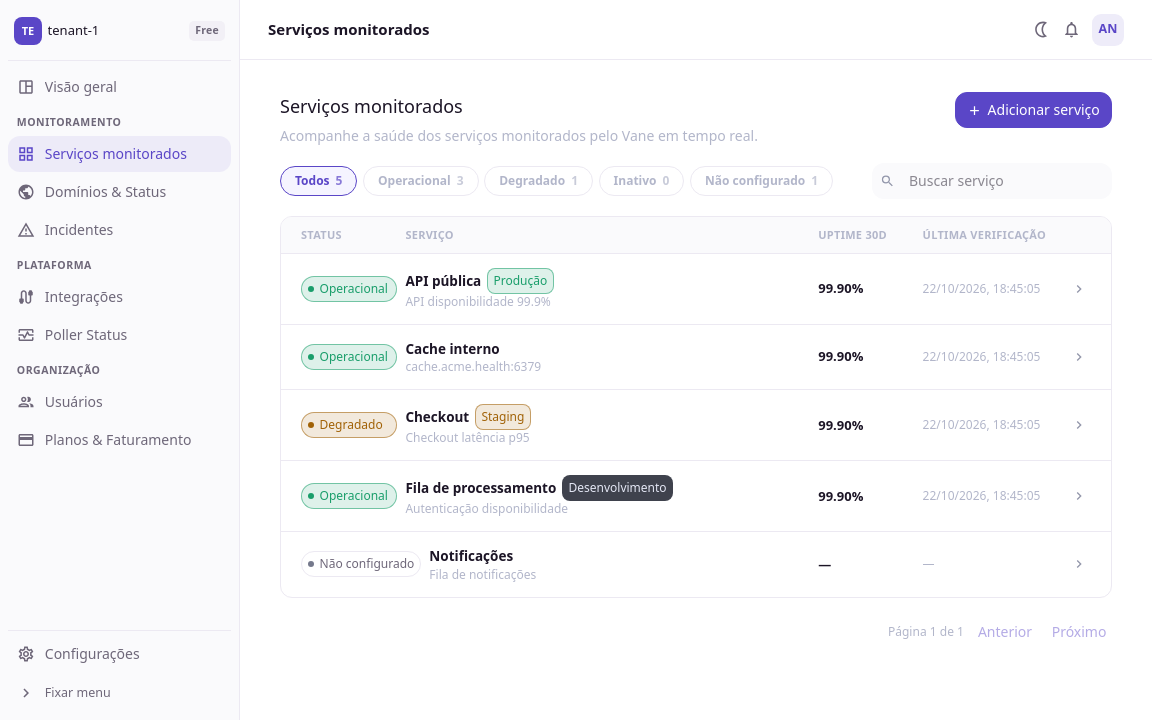
it: App - /services route › clicking a row opens that service's ServiceDetailDrawer
The image size is (1152, 720).
Click the text "Notificações". click: (471, 556)
box: [429,546,513,567]
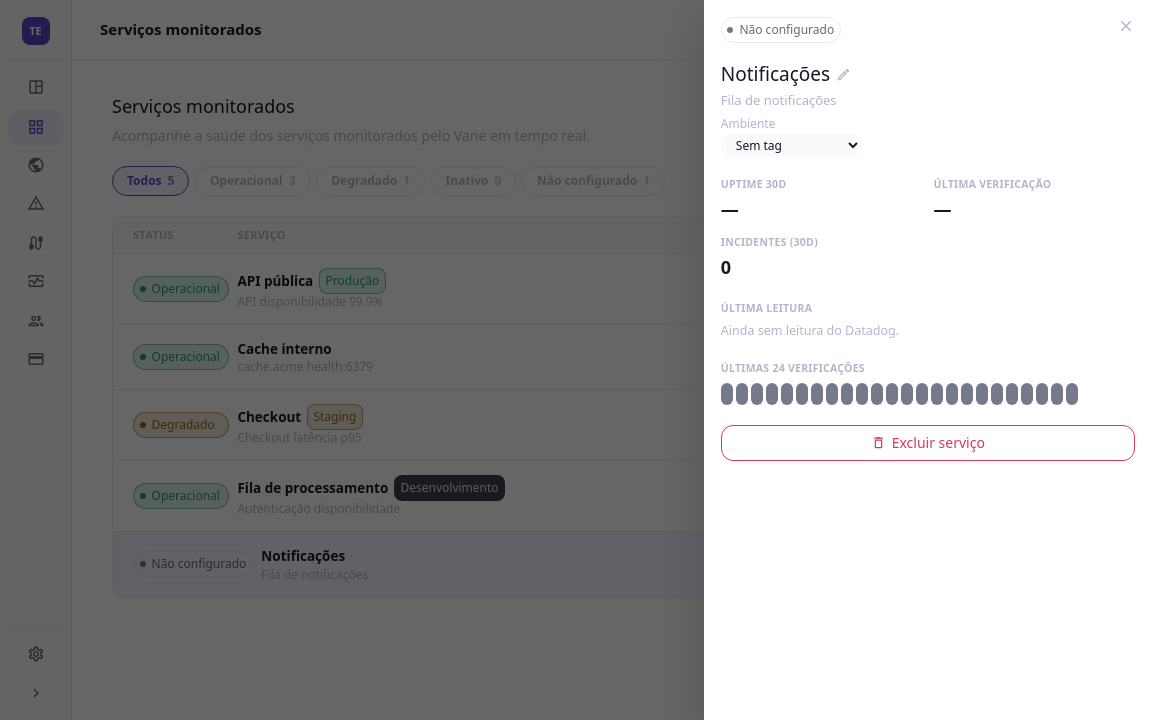
expect the button named "Fechar" is shown: met, box [1117,17,1135,35]
